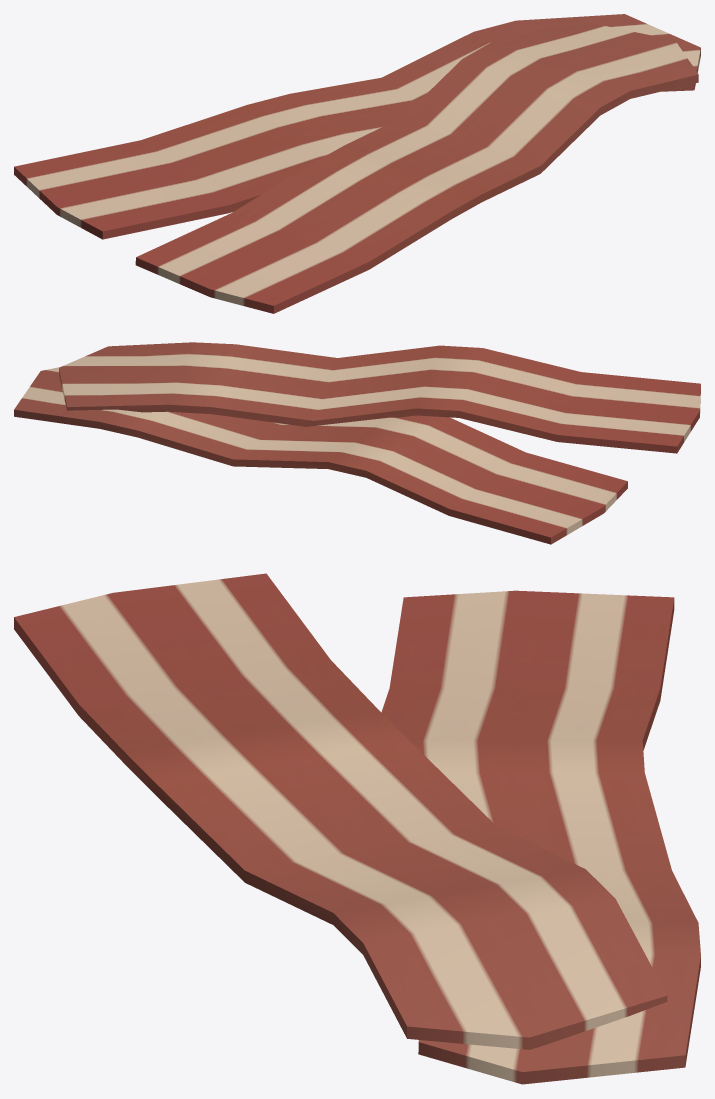
Rendered from SM_Bacon_Double_01.fbx.
3 views of the same model, one above another, from view 1: azimuth 30°, elevation 25°; view 2: azimuth 150°, elevation 25°; view 3: azimuth 270°, elevation 25° (orthographic). The views are drawn at different scales.
Parts seen in each view (by area): view 1: SM_Bacon_Double_01; view 2: SM_Bacon_Double_01; view 3: SM_Bacon_Double_01.
Part boxes in pixels (x1,y1,x2,y2): SM_Bacon_Double_01: (14,14,700,313); SM_Bacon_Double_01: (14,342,700,544); SM_Bacon_Double_01: (14,573,700,1084).
Bounding box in the file's own units: 11.28 × 0.5803 × 6.77.
